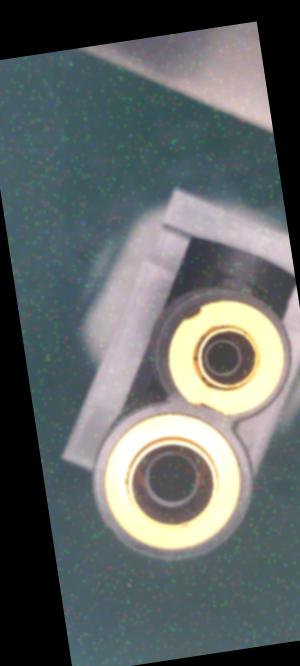bump: (174, 303, 209, 324)
